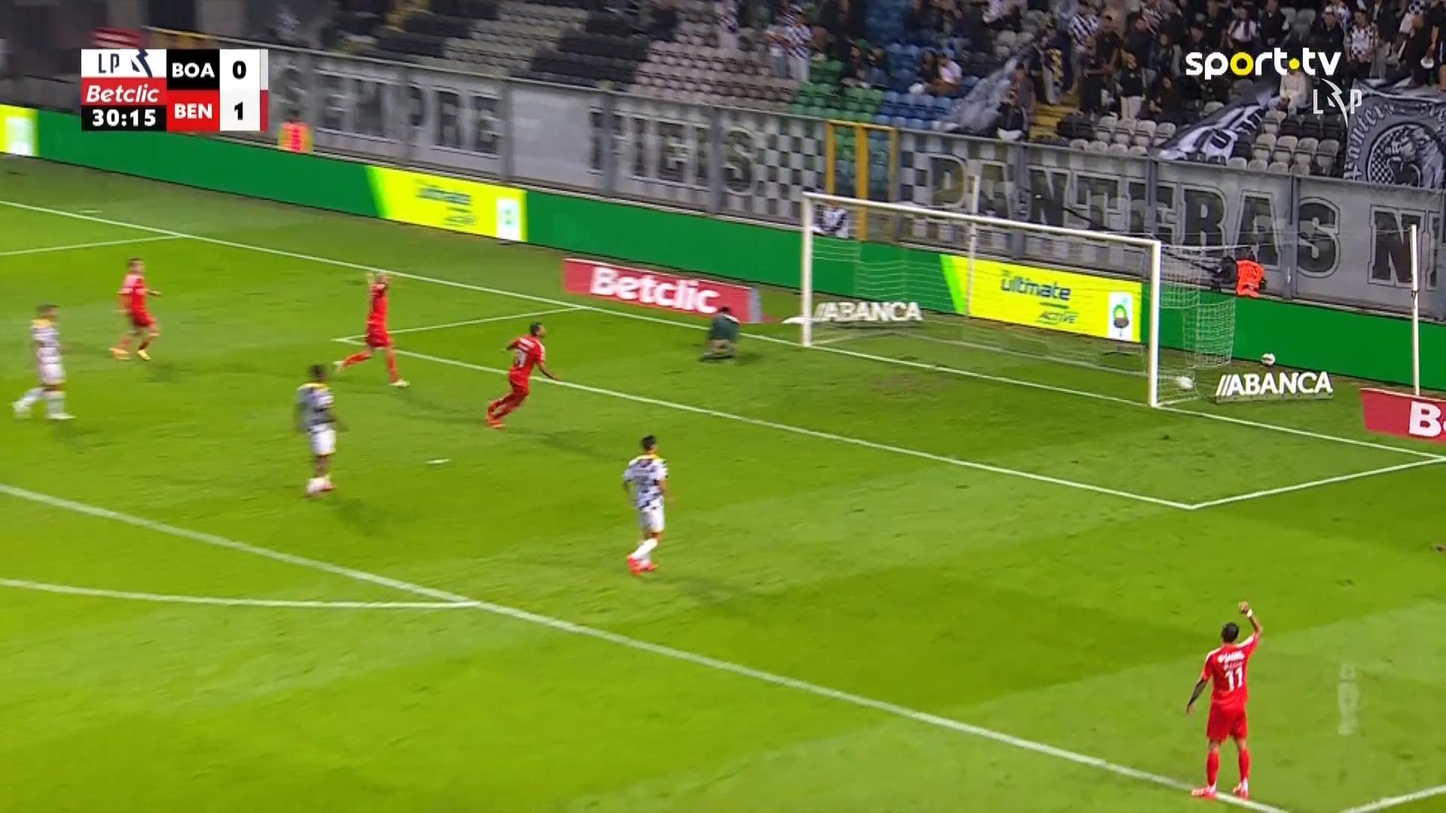ball: (1175, 375, 1193, 391)
goalkeeper: (699, 305, 740, 360)
player: (1185, 599, 1263, 800), (332, 268, 410, 388), (484, 321, 561, 429), (10, 302, 77, 421), (292, 362, 349, 497), (621, 434, 672, 575), (108, 256, 162, 361)
